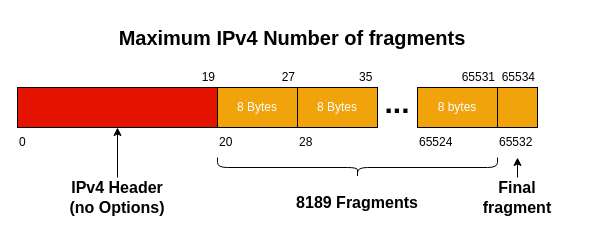
The diagram is 590 pixels wide and 234 high, and some of its shapes have lost their labels. Here are the shapes that lost their labels. From the top down, the centre of each, then its label:
the point at 117,107: 20 Bytes
the point at 517,107: 3 Bytes
